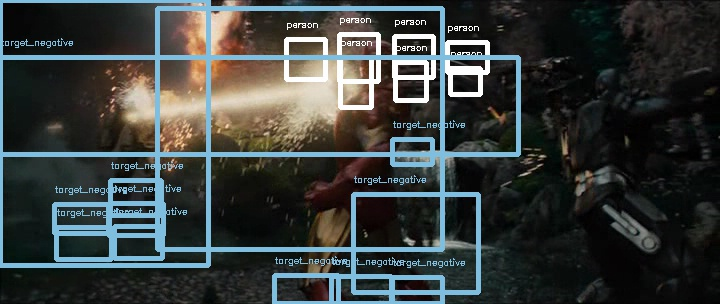person: (354, 35, 395, 89), (353, 35, 394, 89), (355, 35, 396, 89), (354, 34, 395, 88), (354, 36, 395, 90)
target_negative: (228, 99, 560, 222), (473, 178, 720, 249), (129, 110, 248, 173), (467, 263, 564, 295), (656, 189, 681, 235), (710, 236, 712, 290)
